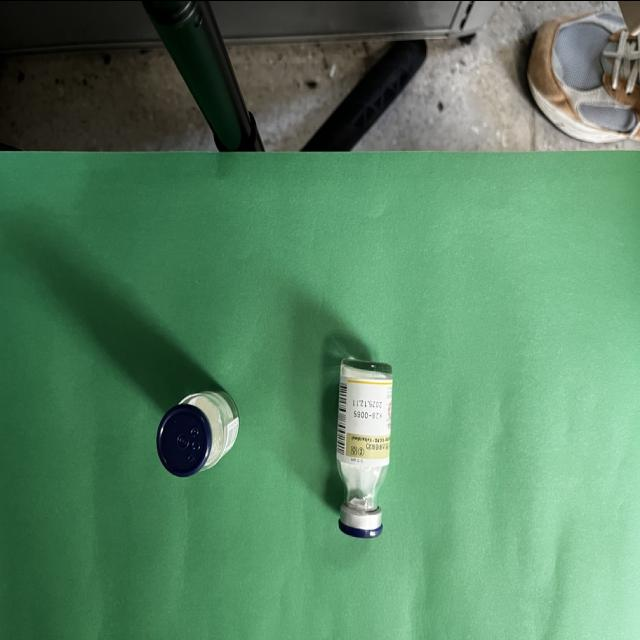Vials: (336, 357, 392, 537), (157, 386, 239, 475)
